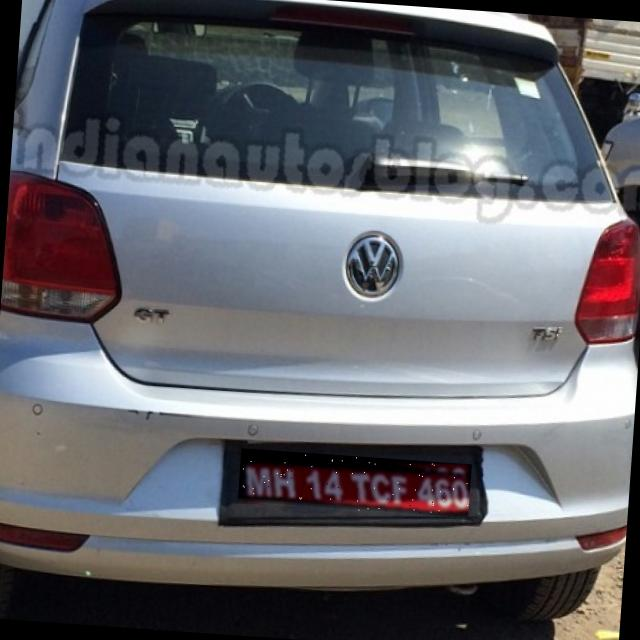Plate: (238, 450, 472, 520)
